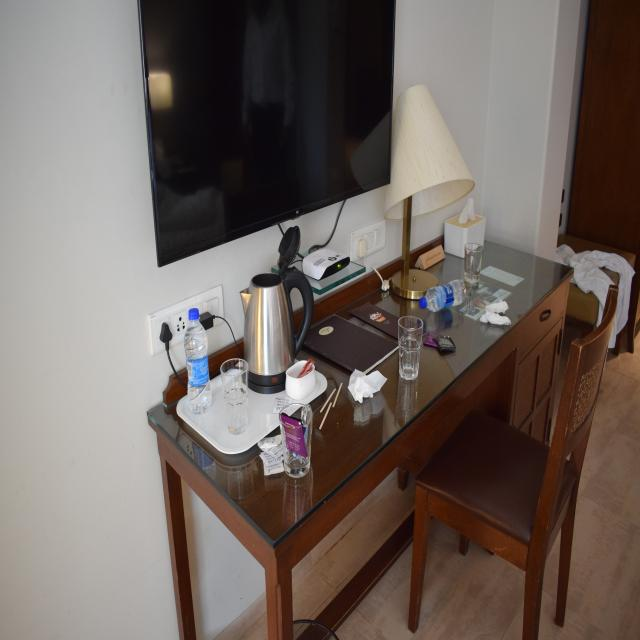mess: (132, 203, 522, 497), (567, 214, 638, 304)
